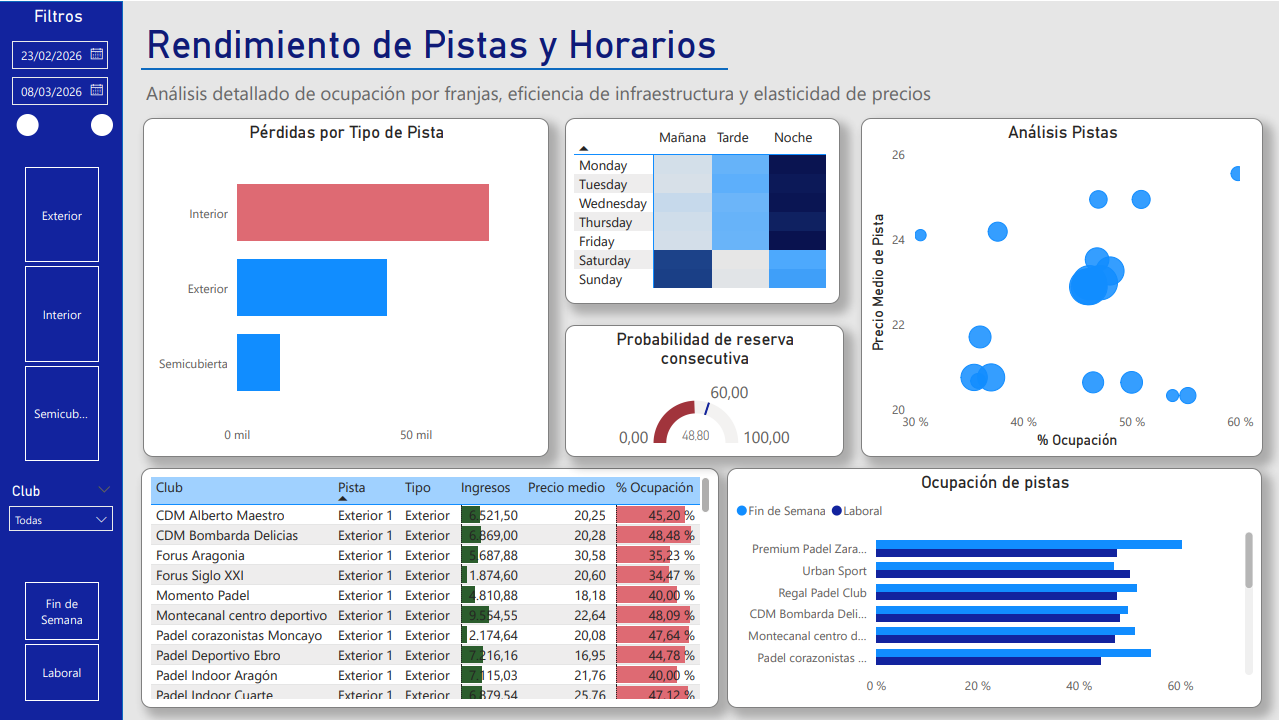

Layout of this report page (visuals, bound fields, positions):
{"tool":"powerbi","page":{"name":"Análisis negocio","canvas":[1280,720],"ordinal":1},"visuals":[{"type":"pivotTable","fields":{"Rows":["public reservas_padel.Dia_Semana"],"Values":["public reservas_padel.% Ocupacion Real"],"Columns":["public reservas_padel.Franja Comercial"]},"box":[565.7,117,275.8,186.2],"z":0},{"type":"barChart","title":"Pérdidas por Tipo de Pista","fields":{"Y":["Sum(public reservas_padel.Lost Revenue)"],"Category":["public reservas_padel.Tipo_Pista"]},"box":[143.9,117.4,406,338.3],"z":1000},{"type":"tableEx","fields":{"Values":["public reservas_padel.Club","public vw_ranking_pistas_rentables.Nombre_Pista","public vw_ranking_pistas_rentables.Tipo_Pista","Sum(public reservas_padel.Ingreso_Generado)","Avg(public reservas_padel.Precio_Euro)","public reservas_padel.% Ocupacion Real"]},"box":[141.9,467.3,578.1,239.4],"z":2000},{"type":"gauge","fields":{"Y":["Avg(public vw_ocupacion_consecutiva.pct_back_to_back)"]},"box":[565.7,323.8,279.7,131.9],"z":3000},{"type":"scatterChart","title":"Análisis Pistas","fields":{"Category":["public reservas_padel.Nombre_Pista"],"X":["public reservas_padel.% Ocupacion Real"],"Y":["Avg(public reservas_padel.Precio_Euro)"],"Size":["Sum(public reservas_padel.Ingreso_Generado)"]},"box":[862.2,117.4,401.5,338.3],"z":4000},{"type":"shape","title":"Filtros","box":[0,0,123.9,719.9],"z":5000},{"type":"slicer","fields":{"Values":["Calendario.Date"]},"box":[0,29.7,123.9,128],"z":6000},{"type":"slicer","fields":{"Values":["public vw_kpi_diario_club.Club"]},"box":[0,476.6,124,73.1],"z":7000},{"type":"slicer","fields":{"Values":["public reservas_padel.Tipo_Pista"]},"box":[0,158.5,124.5,308.3],"z":8000},{"type":"slicer","fields":{"Values":["public reservas_padel.Tipo de Dia"]},"box":[0,573.8,124,133.3],"z":9000},{"type":"textbox","box":[29.6,0,63.9,32.4],"z":10000},{"type":"shape","box":[142.1,29.3,586.4,77.8],"z":11000},{"type":"textbox","box":[142.1,15.8,660.9,77.8],"z":12000},{"type":"textbox","box":[142.1,74.4,842.4,42.9],"z":13000},{"type":"clusteredBarChart","title":"Ocupación de pistas","fields":{"Category":["public reservas_padel.Club"],"Y":["public reservas_padel.% Ocupacion Real"],"Series":["public reservas_padel.Tipo de Dia"]},"box":[728,467.3,534.7,239.4],"z":14000}]}

Visuals, with their boxes on the page's 1280x720 design canvas (x1, y1, x2, y2). These are canvas units, not pixel positions in the 1280x720 screenshot, which may show the page scaled, cropped or inside an application window:
pivotTable - public reservas_padel.Dia_Semana x public reservas_padel.% Ocupacion Real: pyautogui.locateOnScreen(566, 117, 842, 303)
"Pérdidas por Tipo de Pista" barChart: pyautogui.locateOnScreen(144, 117, 550, 456)
tableEx - public reservas_padel.Club x public vw_ranking_pistas_rentables.Nombre_Pista: pyautogui.locateOnScreen(142, 467, 720, 707)
gauge - Avg(public vw_ocupacion_consecutiva.pct_back_to_back): pyautogui.locateOnScreen(566, 324, 845, 456)
"Análisis Pistas" scatterChart: pyautogui.locateOnScreen(862, 117, 1264, 456)
"Filtros" shape: pyautogui.locateOnScreen(0, 0, 124, 720)
slicer - Calendario.Date: pyautogui.locateOnScreen(0, 30, 124, 158)
slicer - public vw_kpi_diario_club.Club: pyautogui.locateOnScreen(0, 477, 124, 550)
slicer - public reservas_padel.Tipo_Pista: pyautogui.locateOnScreen(0, 158, 124, 467)
slicer - public reservas_padel.Tipo de Dia: pyautogui.locateOnScreen(0, 574, 124, 707)
textbox: pyautogui.locateOnScreen(30, 0, 94, 32)
shape: pyautogui.locateOnScreen(142, 29, 728, 107)
textbox: pyautogui.locateOnScreen(142, 16, 803, 94)
textbox: pyautogui.locateOnScreen(142, 74, 984, 117)
"Ocupación de pistas" clusteredBarChart: pyautogui.locateOnScreen(728, 467, 1263, 707)
